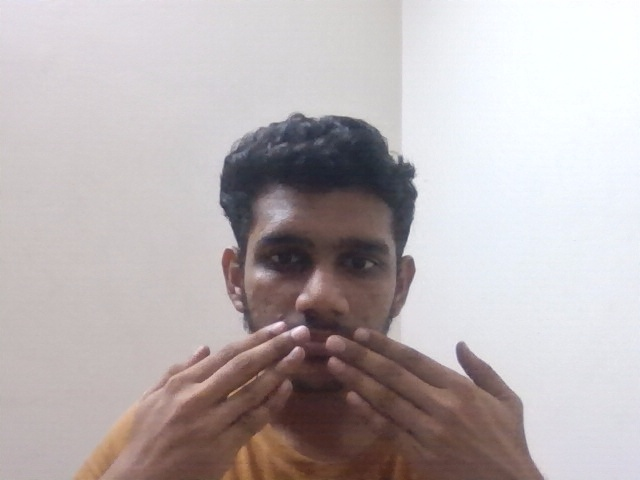thanks: (52, 317, 579, 475)
